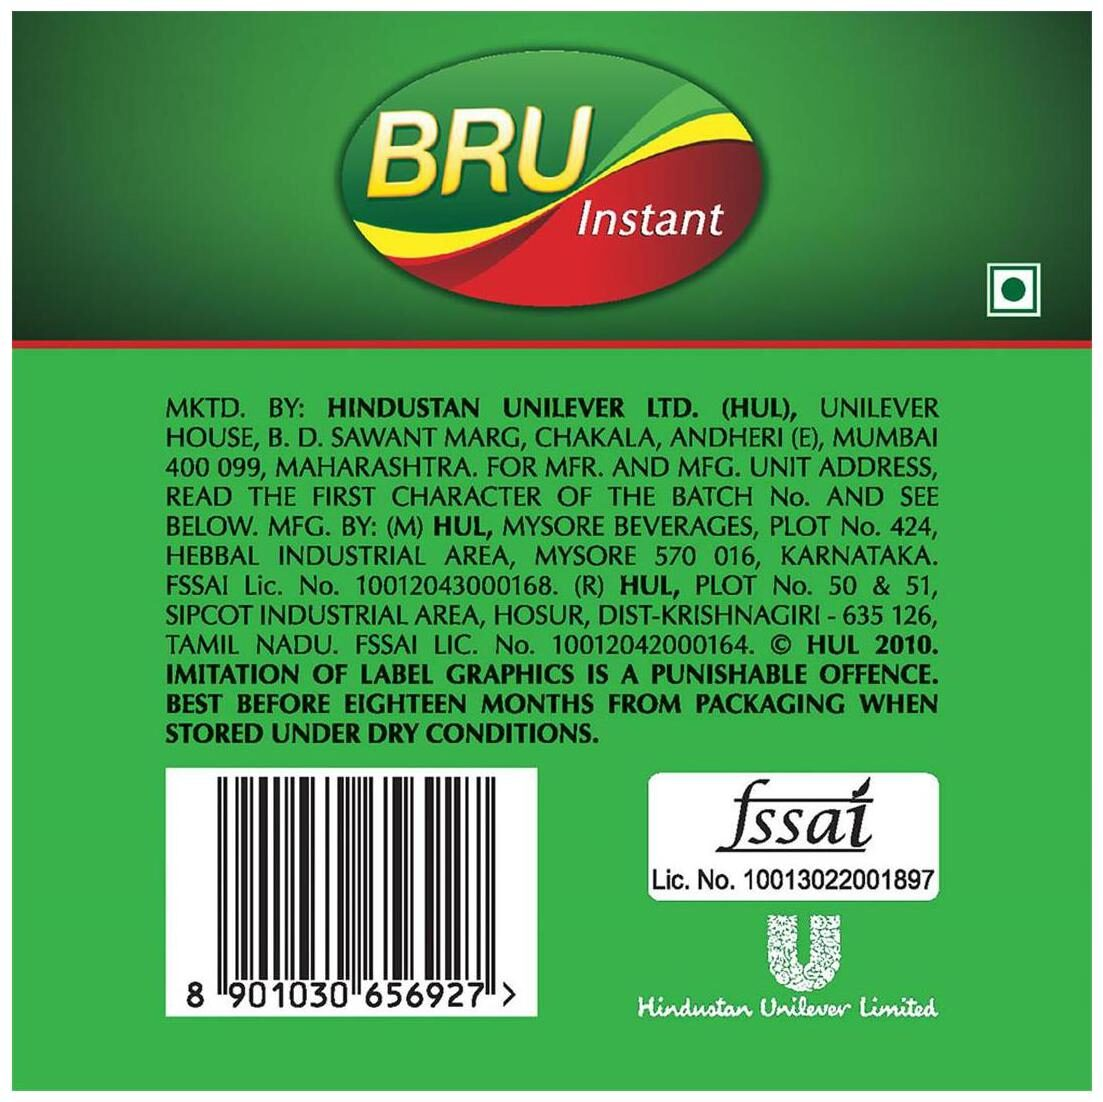fssai: (713, 779, 876, 856)
